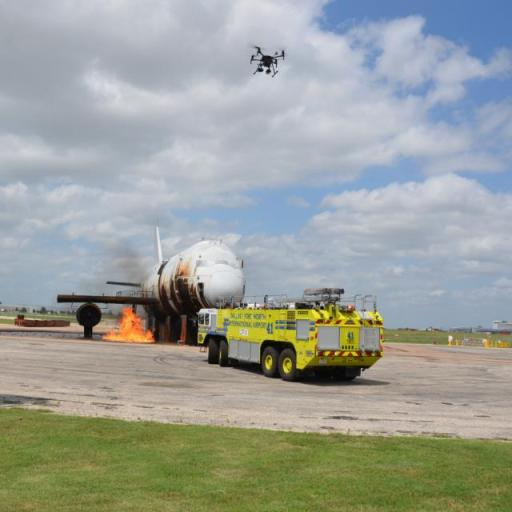uav: (236, 36, 287, 86)
